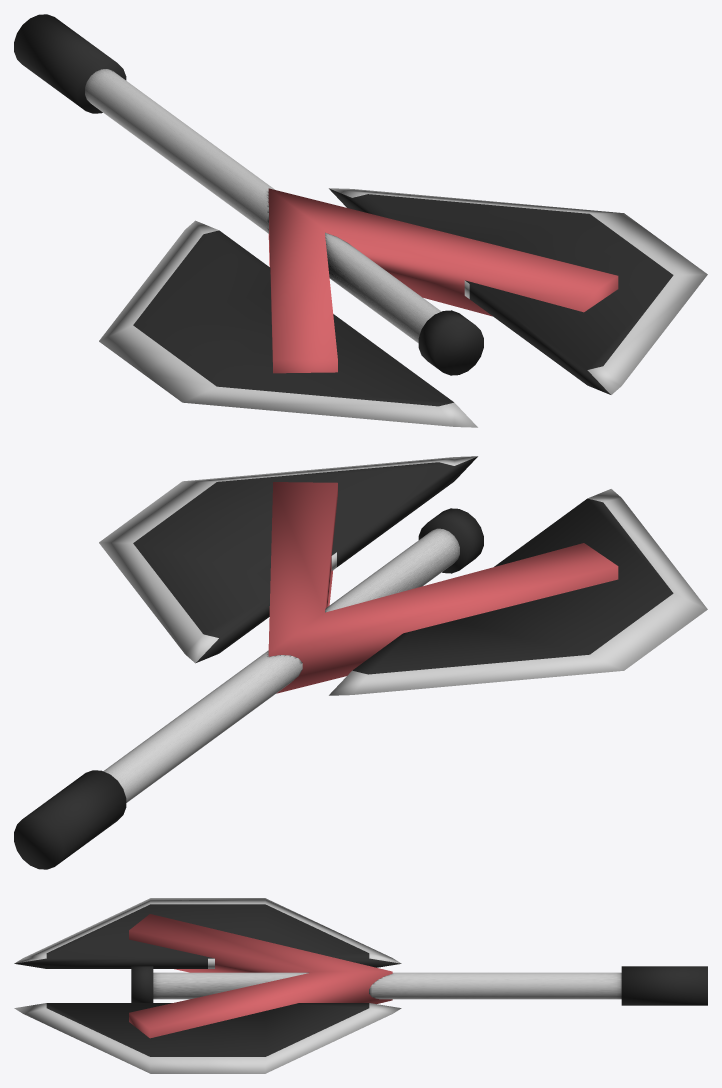
The model's file is vAxe.fbx.
The picture shows the model from 3 angles, top to bottom: view 1: azimuth 30°, elevation 25°; view 2: azimuth 150°, elevation 25°; view 3: azimuth 270°, elevation 25°; orthographic projection. The views are drawn at different scales.
Visible parts, largest first — view 1: vAxe; view 2: vAxe; view 3: vAxe.
Part boxes in pixels (left/top/right/bottom): vAxe: left=14, top=14, right=707, bottom=427; vAxe: left=14, top=456, right=707, bottom=869; vAxe: left=14, top=898, right=707, bottom=1073.
Size of the model in its own units: 56.14 by 5.34 by 93.67.
Materials: 5 (1 with a texture image).
